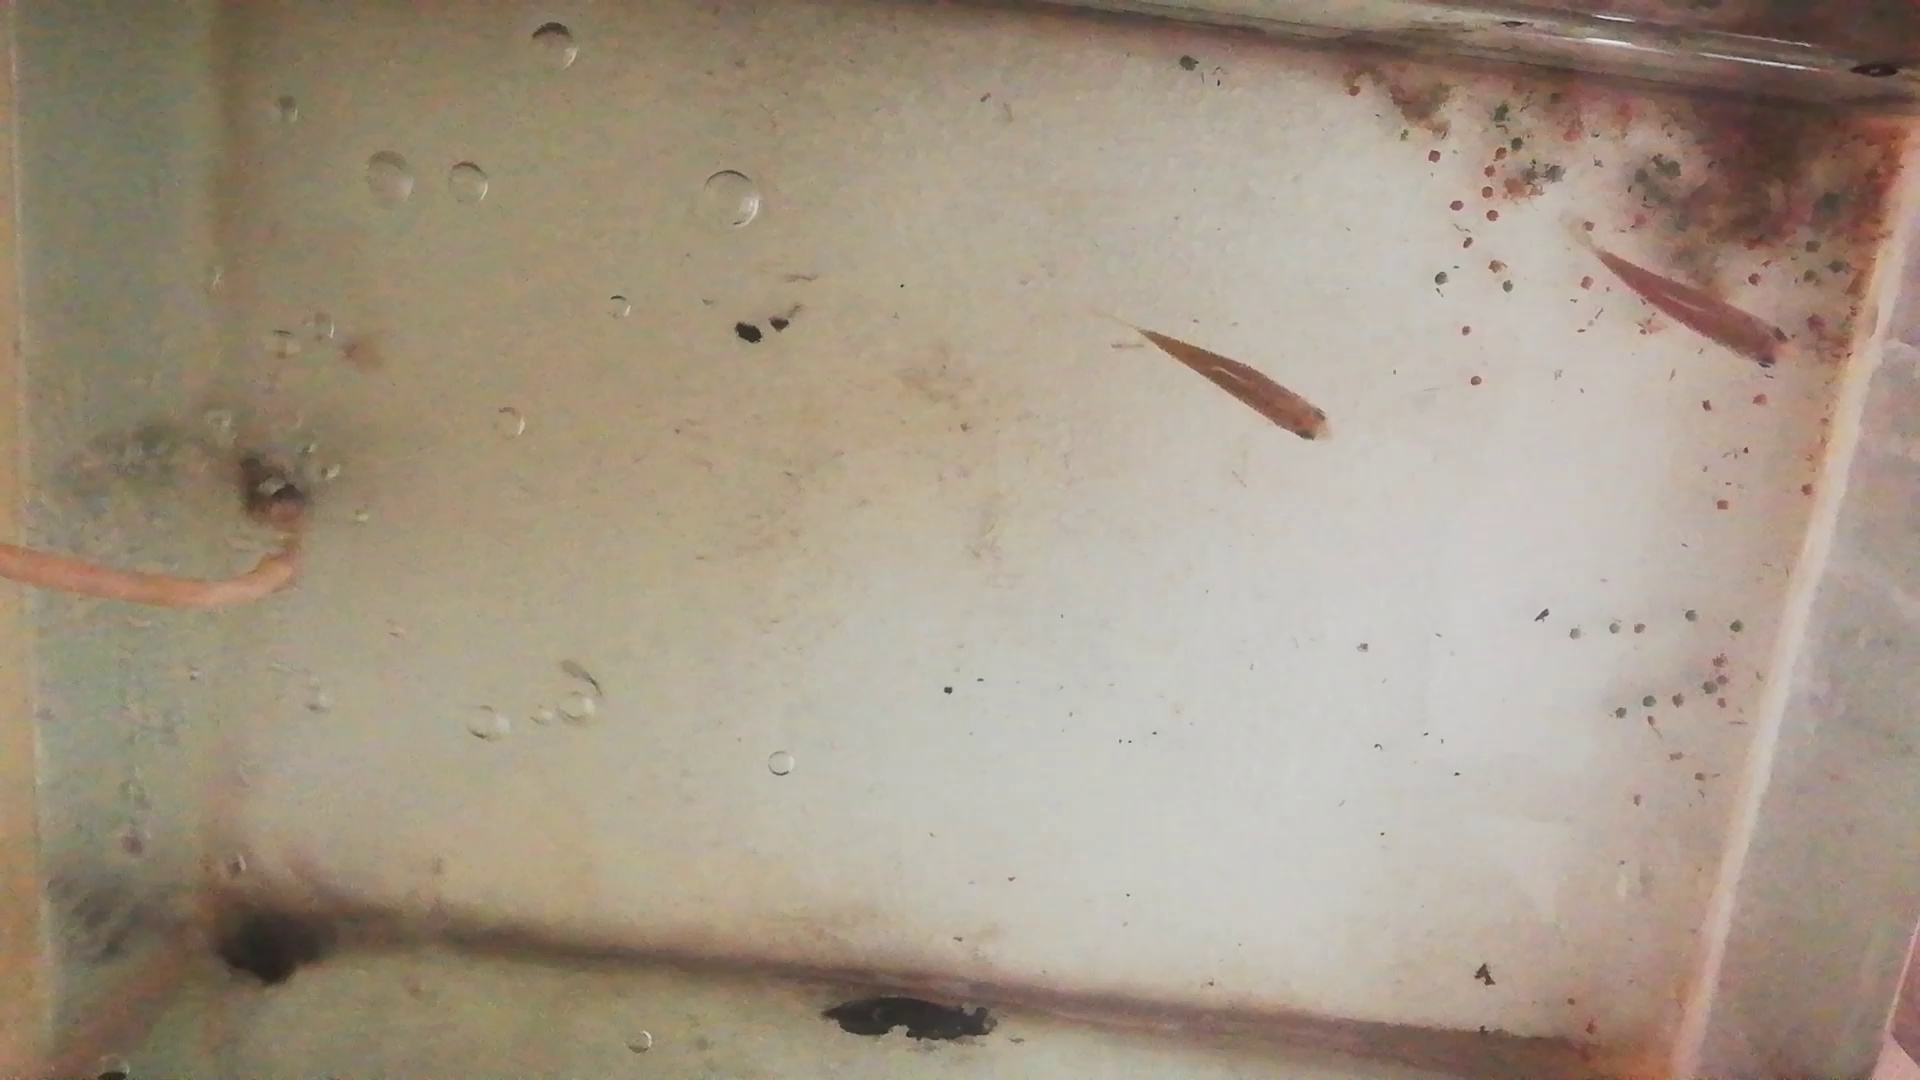fish: (1134, 324, 1338, 448), (1596, 252, 1795, 375)
